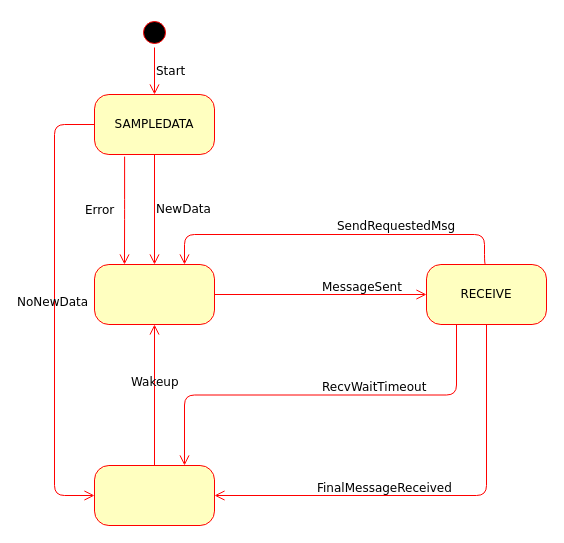
This 564x543 diagram has some shape labels left out. The box of each missing label's shape, as (x1, y1, x2, y2) in pixels:
SEND: (94, 264, 214, 324)
SLEEP: (94, 464, 214, 526)
